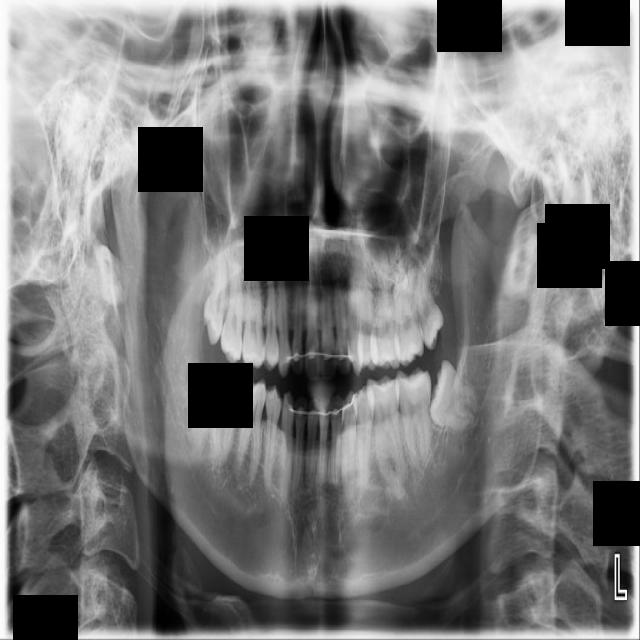3M ESPE Implant: (200, 247, 231, 346)
73: (594, 532, 598, 540)
BioHorizons Implant: (390, 261, 425, 368)
BioLife Implant: (405, 251, 449, 352)
Biomet 3i Implant: (421, 359, 491, 436)
Blue Sky Bio Implant: (394, 366, 437, 477)
Caries: (220, 261, 244, 365)
Implant: (206, 366, 242, 466)
Keystone Dental Implant: (180, 364, 217, 448)
